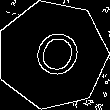O_SW: (22, 23, 83, 87)
